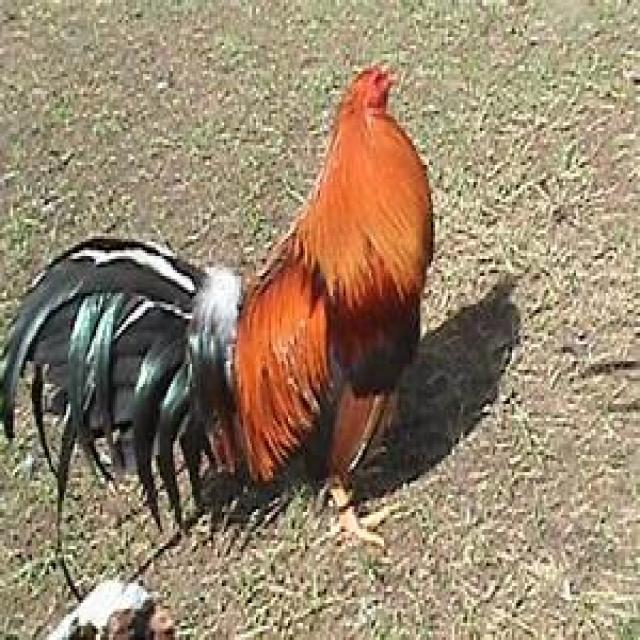hen: (0, 65, 435, 518)
